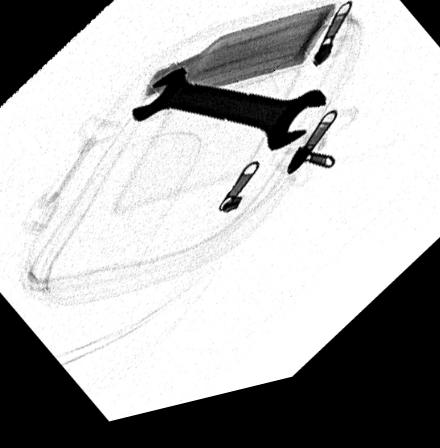Wrench: (128, 75, 328, 165)
